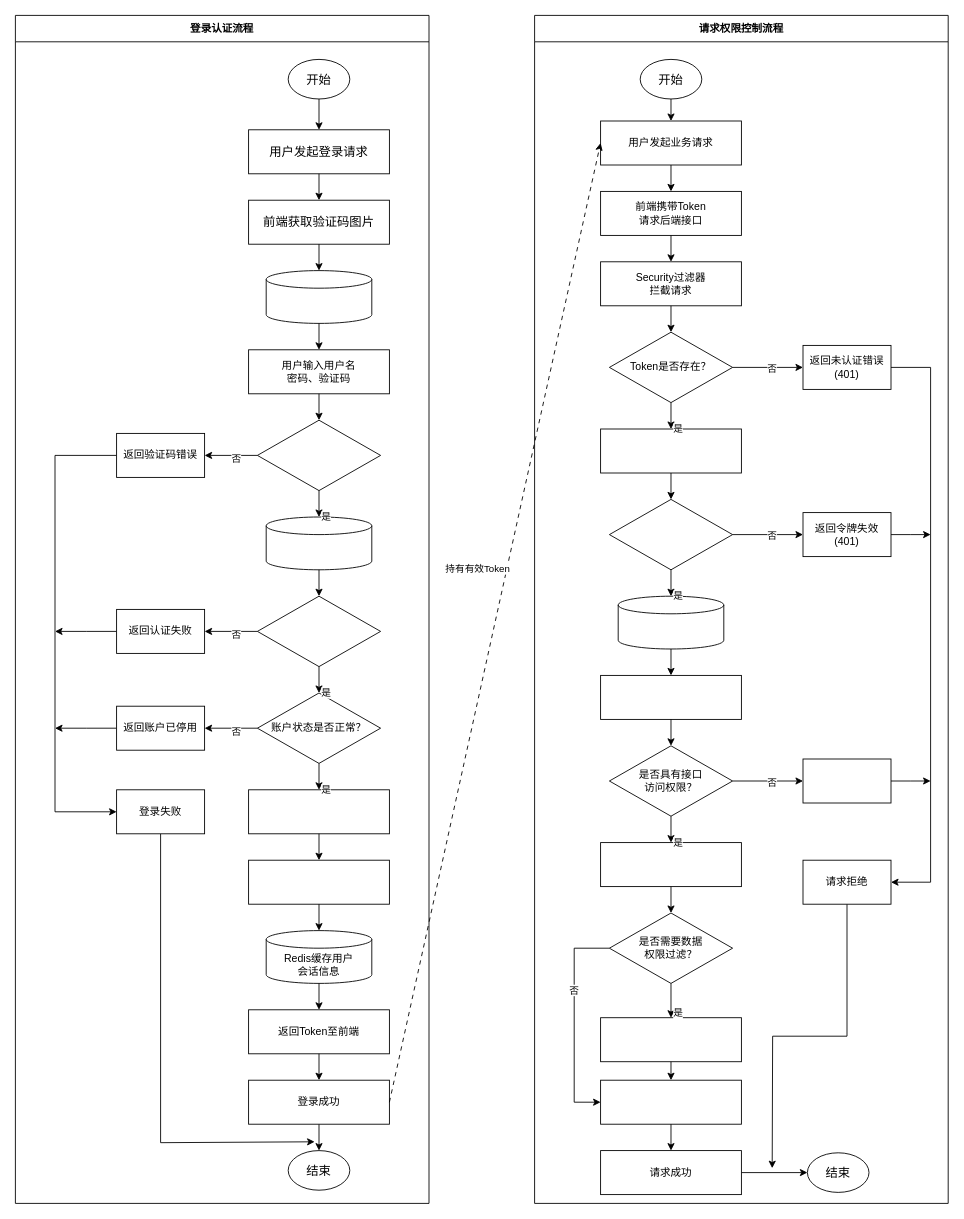
The diagram is 964 pixels wide and 1219 high, and some of its shapes have lost their labels. The shapes that lost their labels are listed below. From the top down, each one's centre as x and y in pixels, then its label:
point (318, 296): Redis存储验证码
point (319, 455): 验证码是否正确？
point (670, 450): 解析JWT令牌
point (318, 543): 查询MySQL用户表
point (671, 534): Token是否有效且 未过期？
point (319, 631): 用户是否存在且 密码正确？
point (670, 622): 从Redis获取 用户会话
point (670, 697): 获取用户权限 标识列表
point (846, 780): 返回权限不足 (403)
point (318, 811): 加载用户角色与 权限信息
point (318, 881): 生成JWT令牌
point (670, 864): 执行业务逻辑
point (670, 1039): 根据DataScope 过滤数据范围
point (670, 1101): 返回权限范围内 的数据
